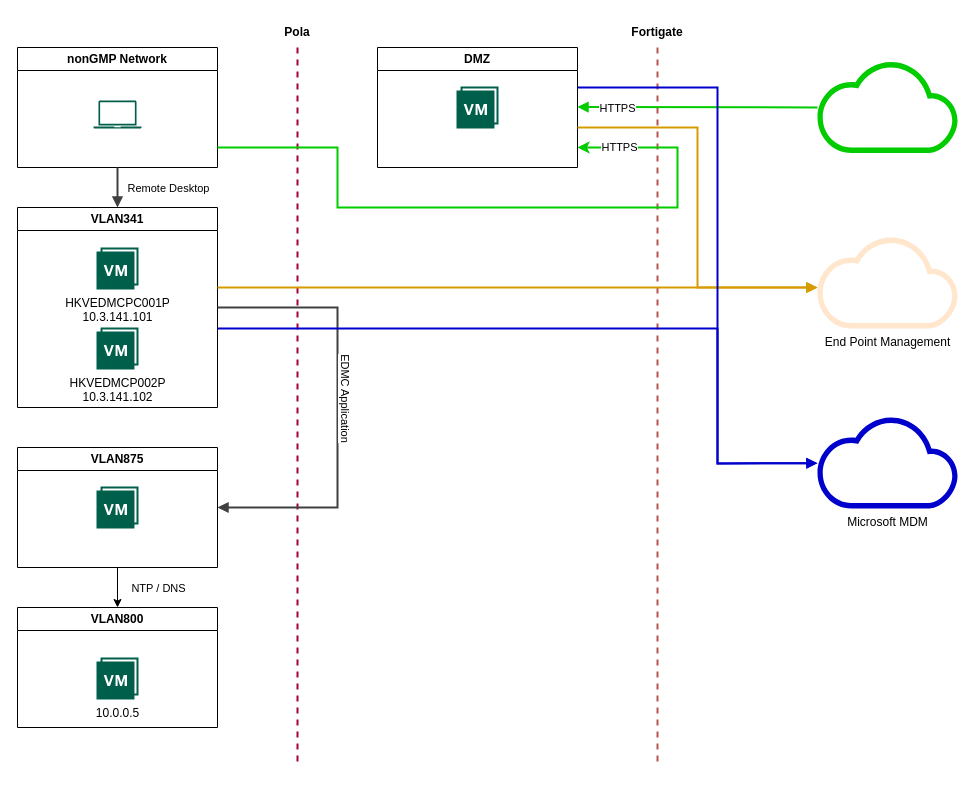
Image size: 975x786. Some labels were removed from this diagram. Here are the shapes that lost their labels. From the top down, the centre of each, then its label:
[117,114]: FP Staff
[477,107]: HKVEDMCWB001P 172.16.10.41
[887,107]: Public Internet
[117,507]: HKVEDMCAP001P 10.0.75.100
